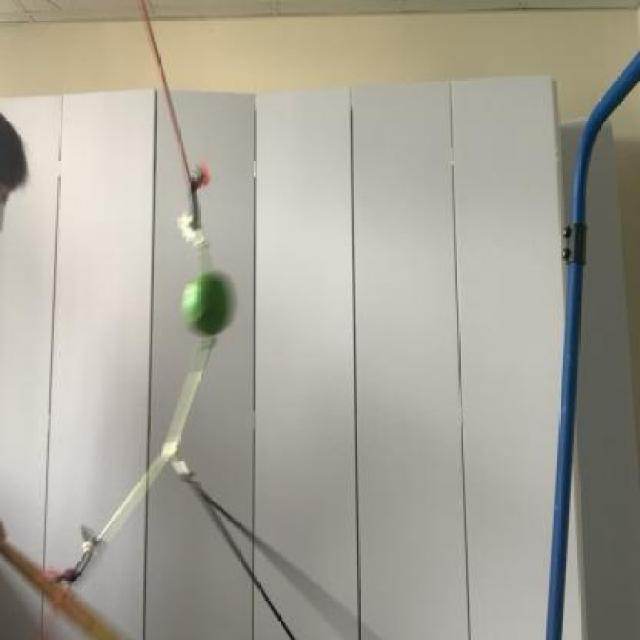baseball: (176, 260, 236, 342)
